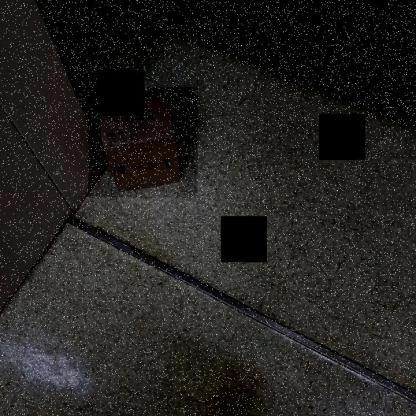-: (89, 88, 198, 199)
